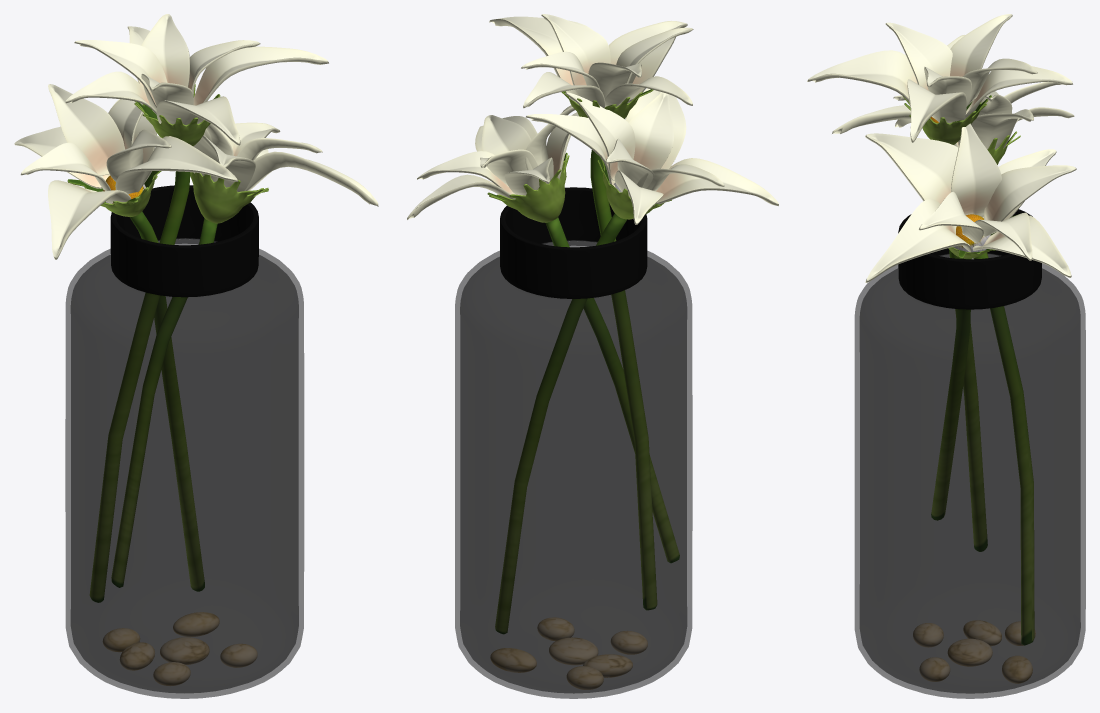
Rendered from greek_style_flower_vase.glb.
The picture shows the model from 3 angles, left to right: view 1: azimuth 30°, elevation 25°; view 2: azimuth 150°, elevation 25°; view 3: azimuth 270°, elevation 25°; orthographic projection. The views are drawn at different scales.
Parts seen in each view (by area): view 1: Bottle, Flower002, Flower, Flower001, Pebbles; view 2: Bottle, Flower002, Flower, Flower001, Pebbles; view 3: Bottle, Flower001, Flower, Flower002, Pebbles.
Part boxes in pixels (left/top/right/bottom): Bottle: left=65, top=185, right=304, bottom=698; Flower002: left=14, top=84, right=238, bottom=591; Flower: left=65, top=14, right=328, bottom=602; Flower001: left=111, top=122, right=378, bottom=587; Pebbles: left=102, top=612, right=257, bottom=686; Bottle: left=455, top=187, right=692, bottom=698; Flower002: left=495, top=88, right=778, bottom=634; Flower: left=489, top=14, right=693, bottom=610; Flower001: left=407, top=103, right=679, bottom=562; Pebbles: left=490, top=617, right=647, bottom=689; Bottle: left=854, top=209, right=1085, bottom=698; Flower001: left=865, top=123, right=1076, bottom=520; Flower: left=807, top=14, right=1072, bottom=551; Flower002: left=832, top=81, right=1074, bottom=645; Pebbles: left=913, top=620, right=1035, bottom=683.
Size of what is drawn, in the model's own units: 0.2305 by 0.4485 by 0.1859.
2 materials, 2 textured.
